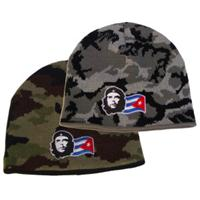hat: (3, 60, 146, 176), (60, 21, 196, 132)
